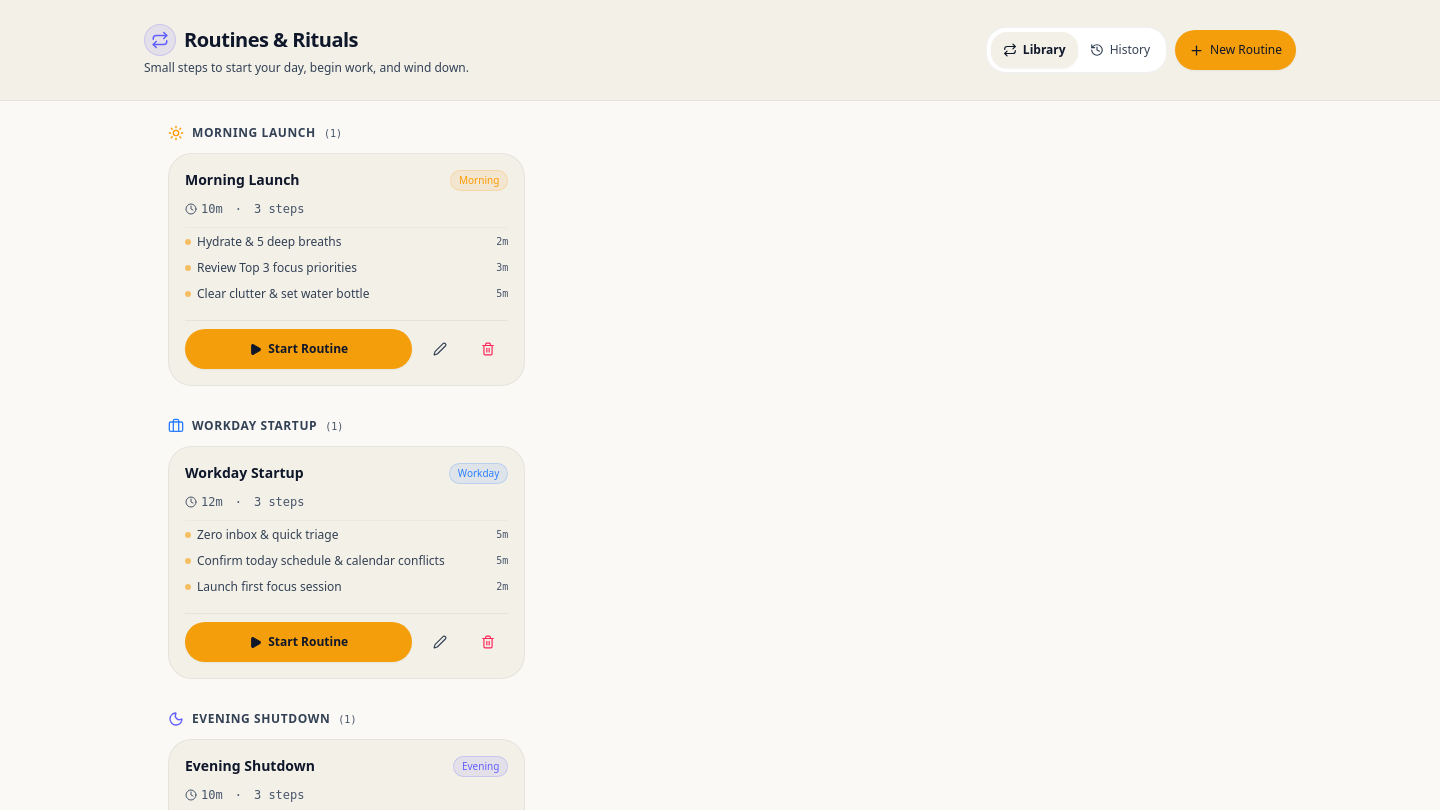
RoutinesView › can switch to History tab
The width and height of the screenshot is (1440, 810).
Step 1. Click the button "History" → (1120, 50), box [1078, 32, 1162, 68]
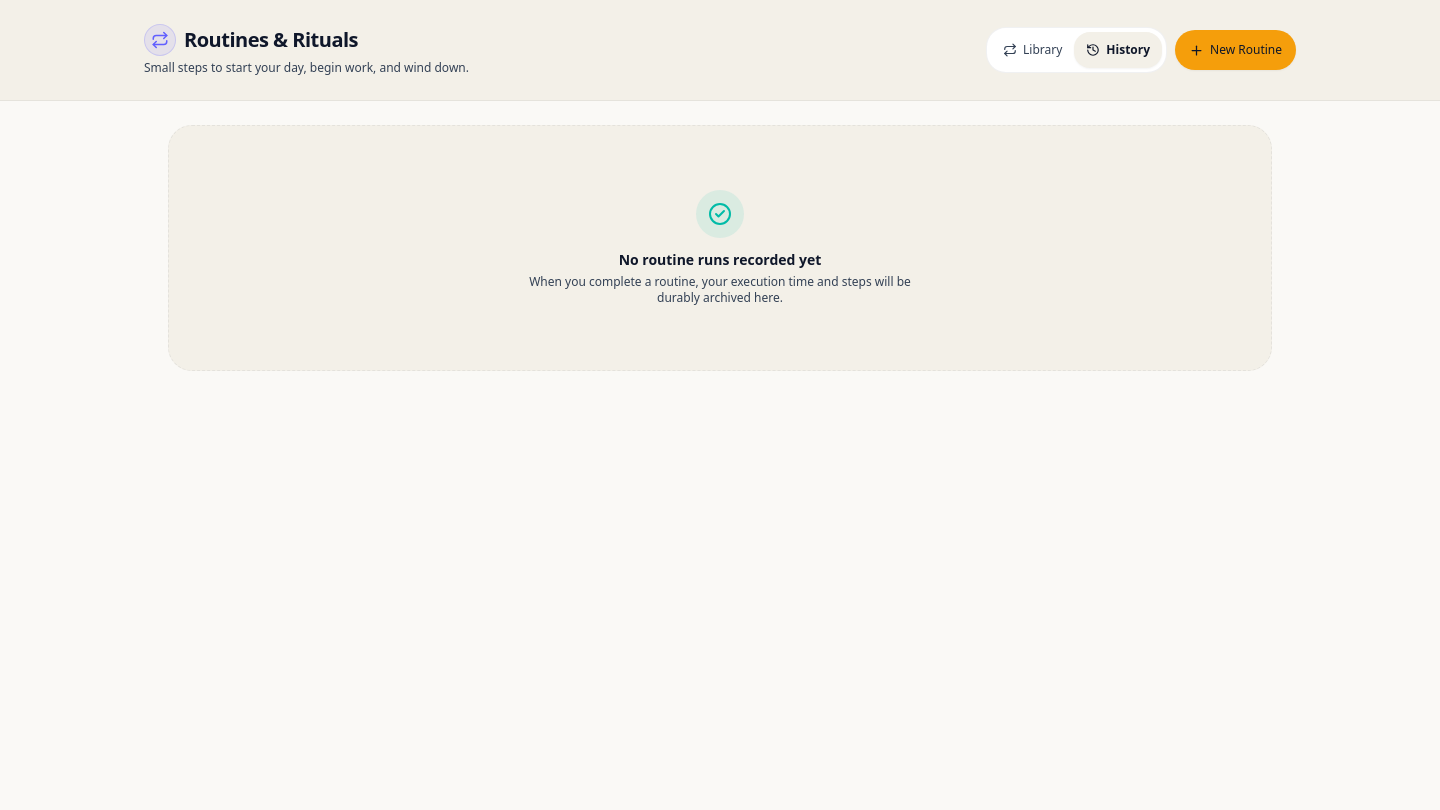
expect the heading "No routine runs recorded yet" is shown: met, box [619, 250, 821, 269]
